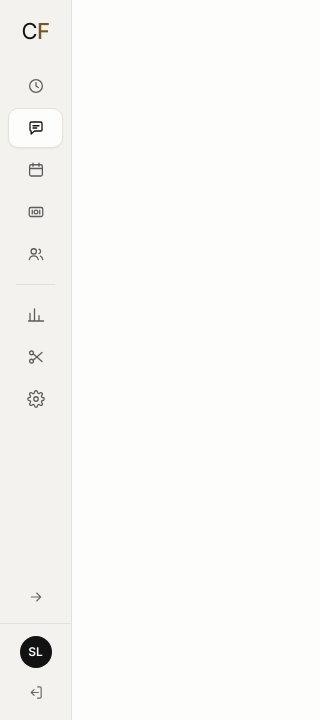
it: menu lateral do computador › r66 #13: recolhido, o nome do item aparece ao passar o mouse e ao focar (e continua para o leitor de tela)
Hover over the 2nd link named "Conversas".
mouse_move(36, 128)  # box [8,108,63,148]
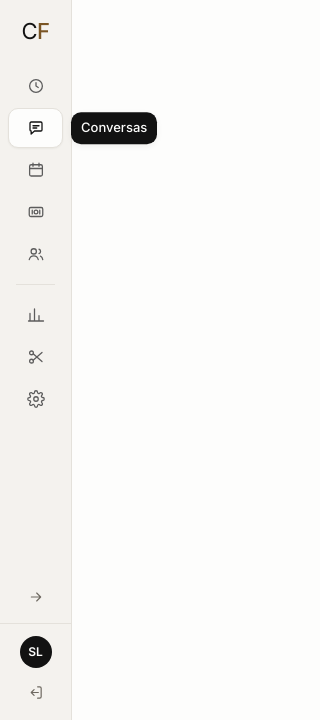
Now the tooltip reads "Conversas", box [81,119,147,135]
Move the pointer off the link "Conversas", box [8,108,63,148]
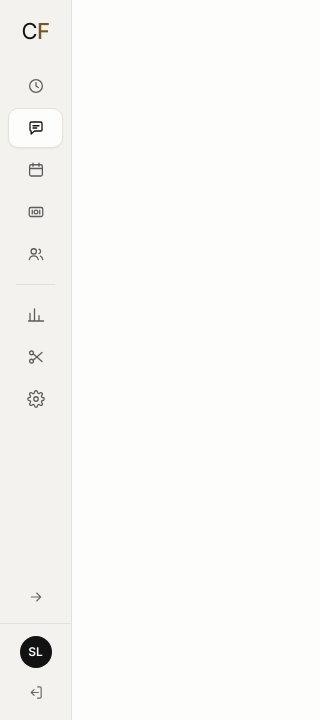
Focus the 3rd link named "Agenda" at (36, 170), box [8,150,63,190]
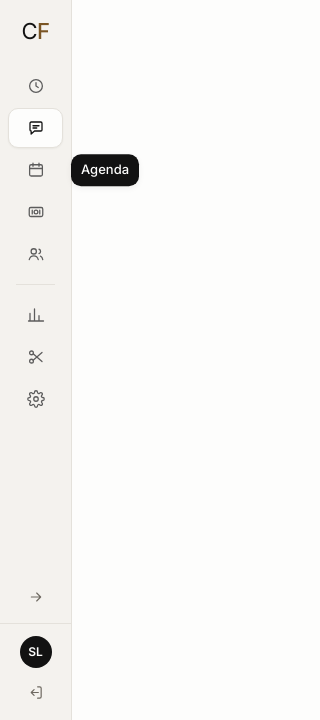
Now the tooltip reads "Agenda", box [81,161,129,177]
